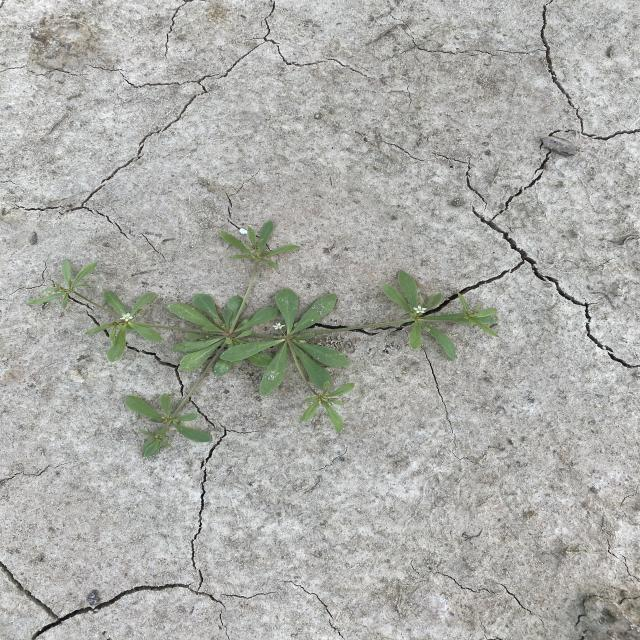Carpetweed: (25, 219, 502, 461)
